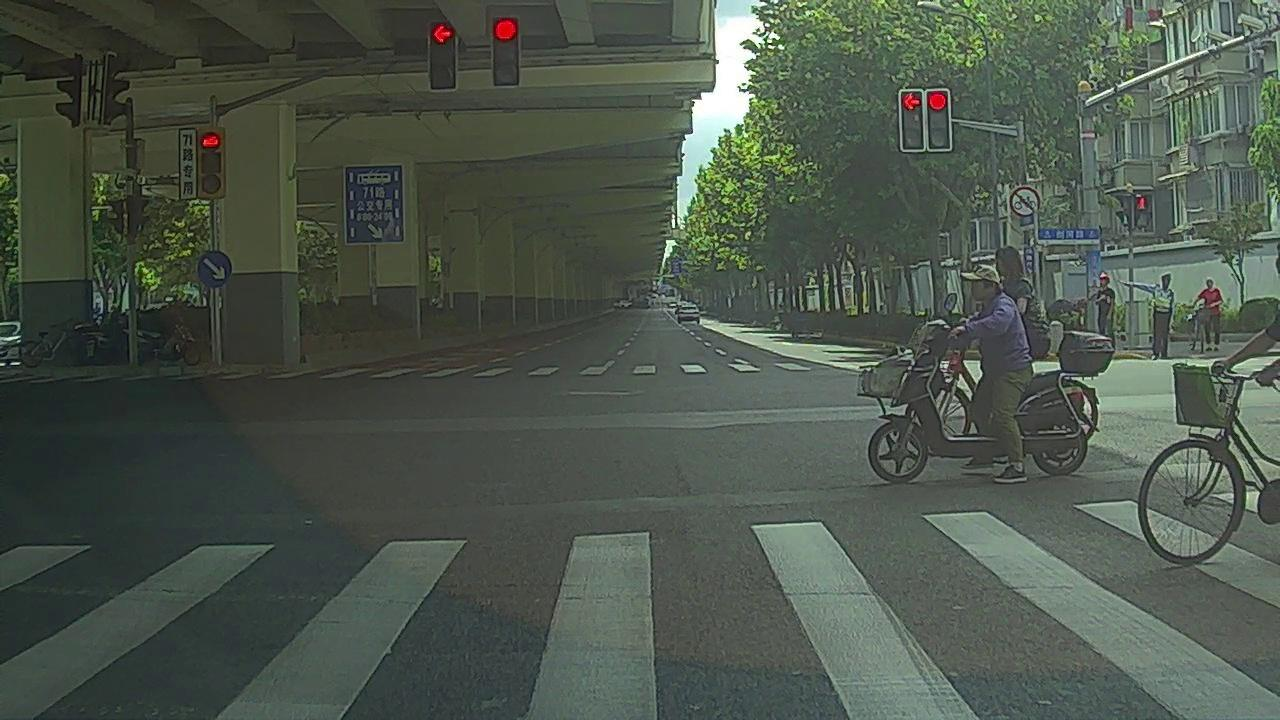traffic_light: (491, 19, 518, 86), (925, 91, 951, 152), (431, 23, 455, 88), (901, 91, 923, 148)
